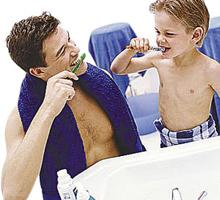person: (111, 1, 220, 150)
